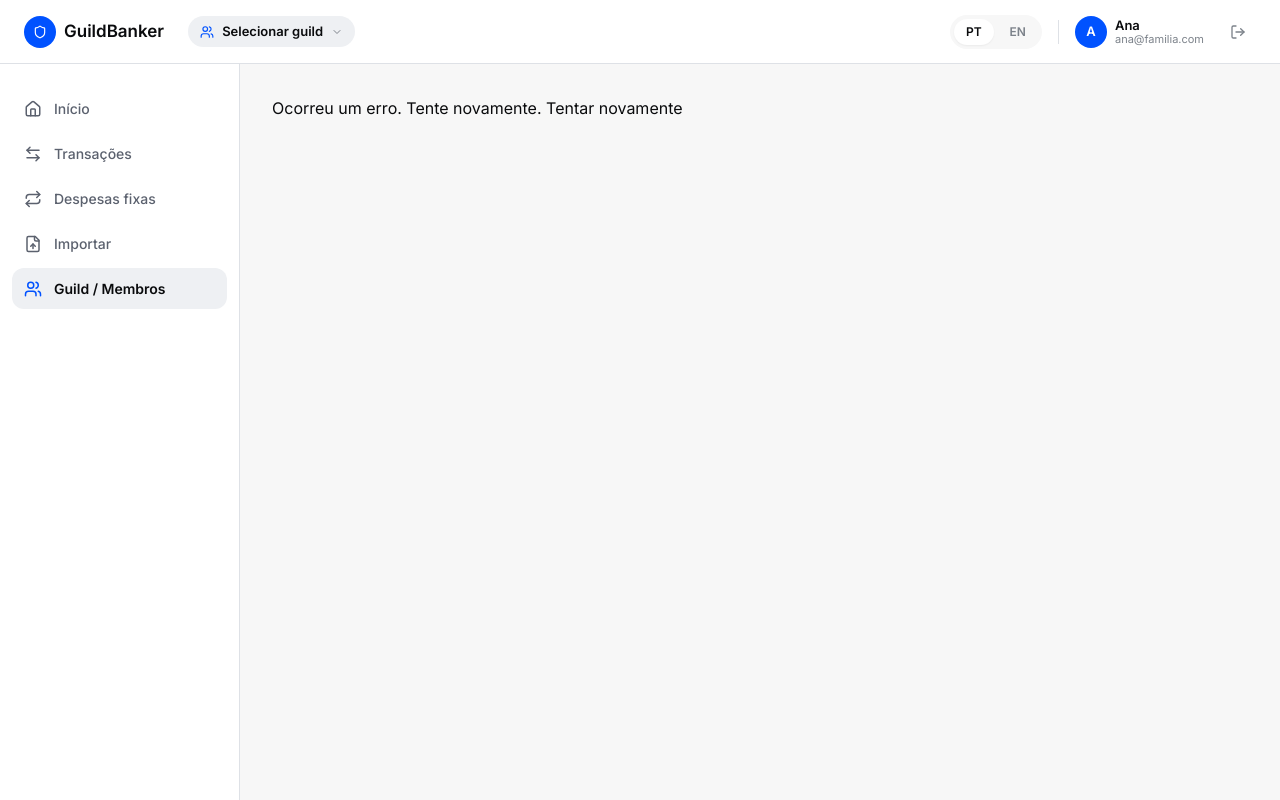
Test: offers retry when guild listing fails
This screenshot has width=1280, height=800.
Click the button "Tentar novamente".
click(614, 108)  # box [546,96,682,120]
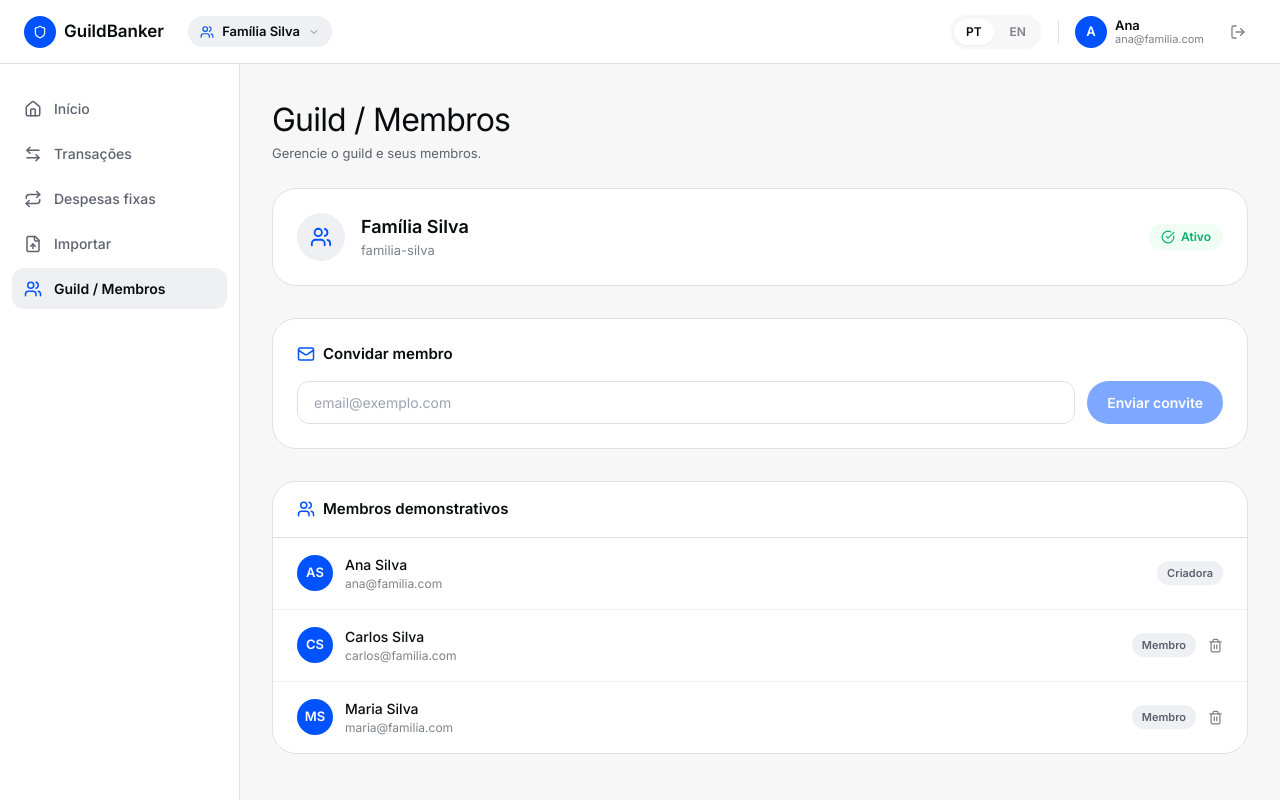
Expected: the field named "Convidar membro" is shown, [297,381,1075,424]
